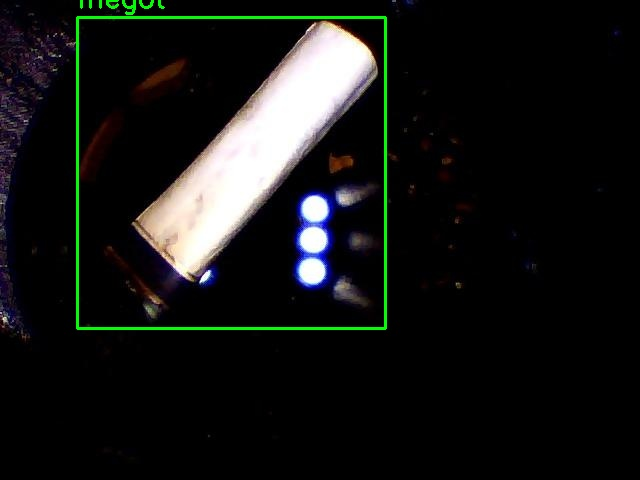megot: (77, 17, 385, 328)
